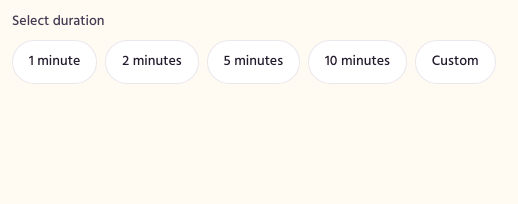
Test case: DurationPicker › rejects a custom duration below the 1-minute minimum
The width and height of the screenshot is (518, 204).
Click the button "Custom": coordinates (455, 62) [415,40,496,84]
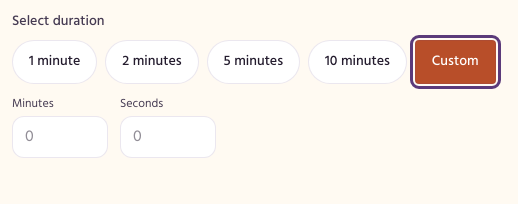
In the number field labelled "Seconds": coordinates (168, 137) [120,116,216,158], type "30"
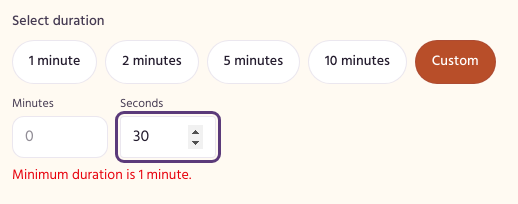
expect the message reads "Minimum duration is 1 minute.": met, box [12,164,191,187]
